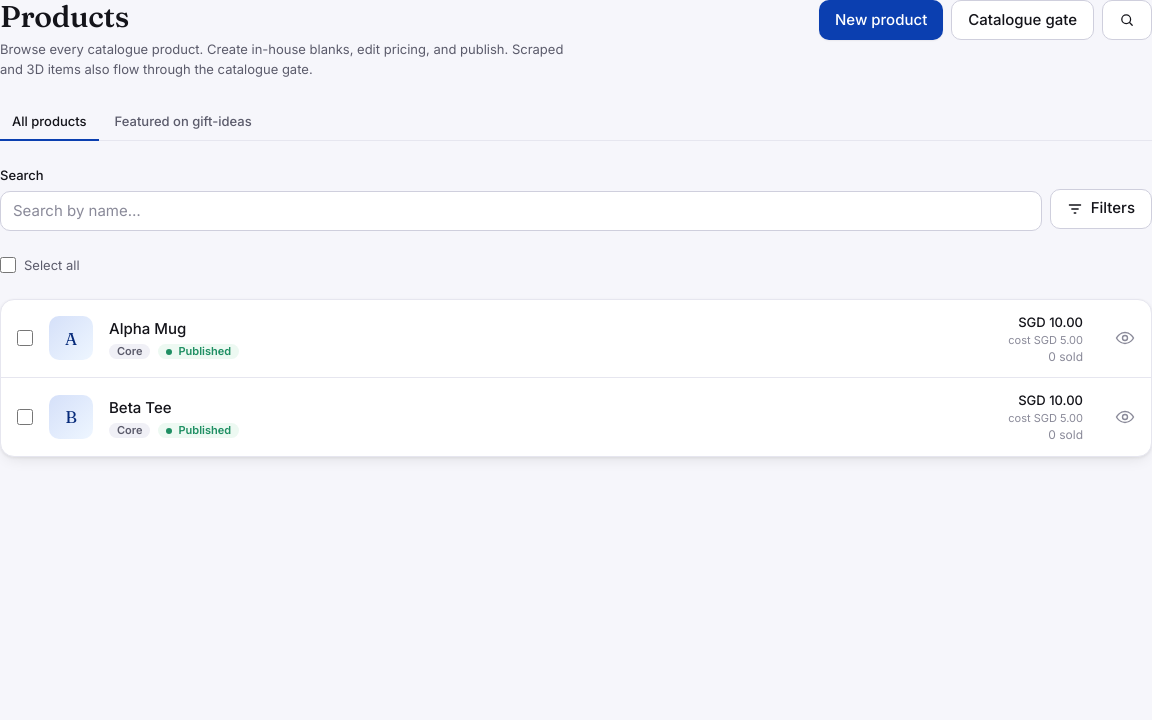
Scenario: surfaces a partial-failure notice from the batch meta
This screenshot has width=1152, height=720.
Expected: the text "Alpha Mug" is shown, [109,319,186,338]
What coordinates should you click on to do the following:
click the checkbox named "Select Alpha Mug"
I would click on:
 (25, 338)
Its box is [17,330,33,346].
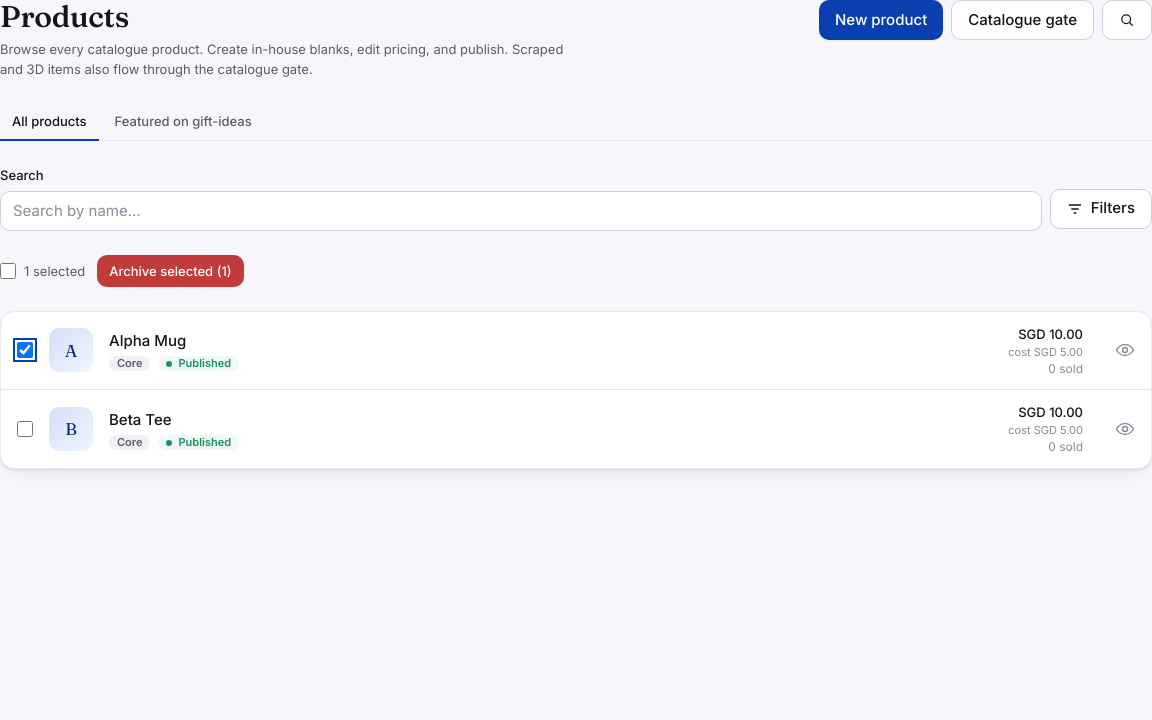
What coordinates should you click on to do the following:
click the checkbox named "Select Beta Tee"
I would click on:
 (25, 429)
Its box is [17,421,33,437].
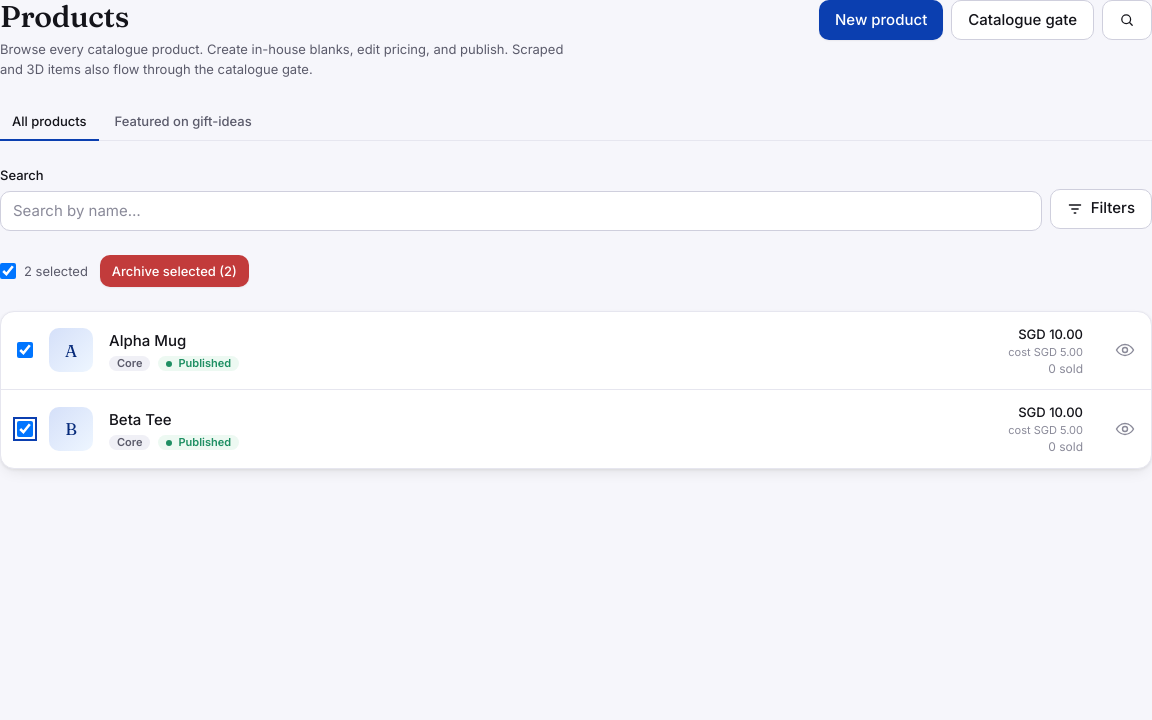
What coordinates should you click on to do the following:
click the button "Archive selected (2)"
I would click on:
 (174, 270)
Its box is [100,254,249,286].
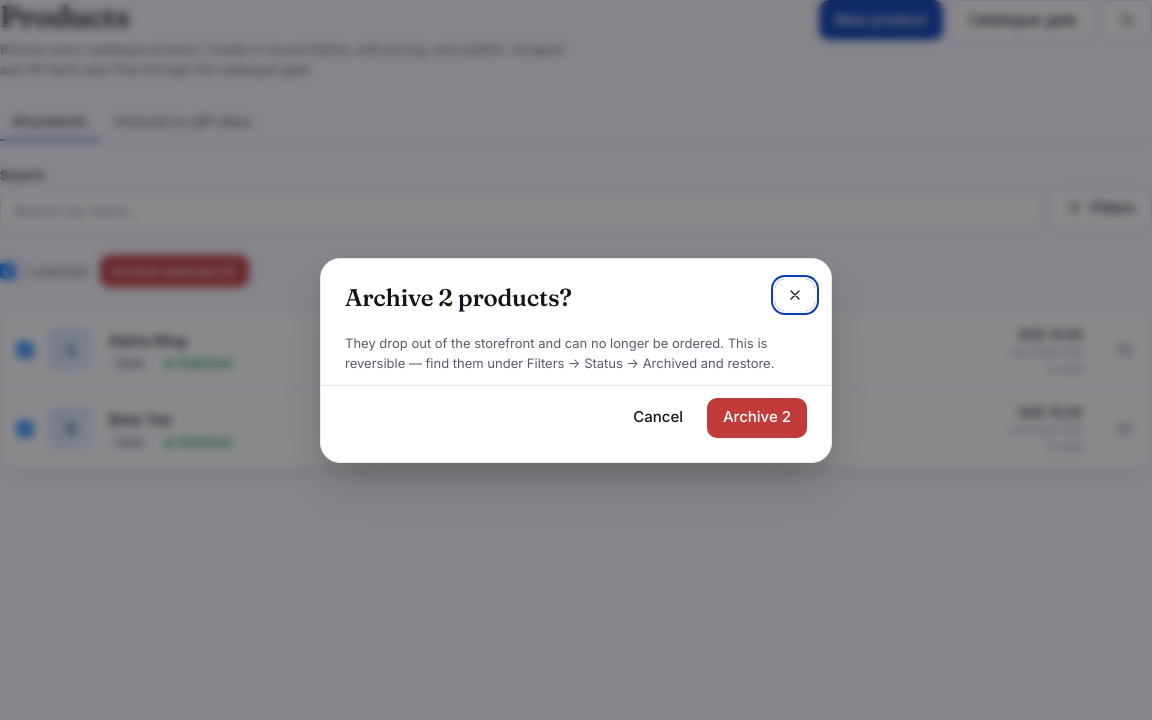
What coordinates should you click on to do the following:
click the button "Archive 2"
I would click on:
 (757, 418)
Its box is [707,398,807,438].
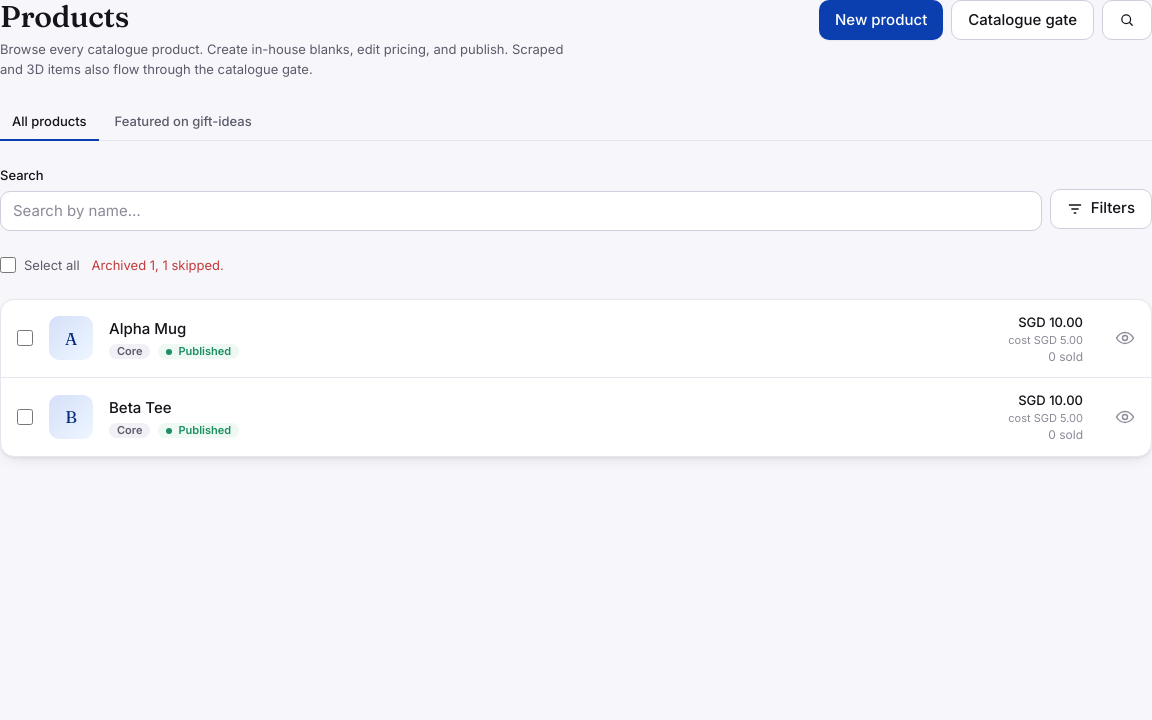
Expected: the text "Archived 1, 1 skipped." is shown, [92,254,224,274]
